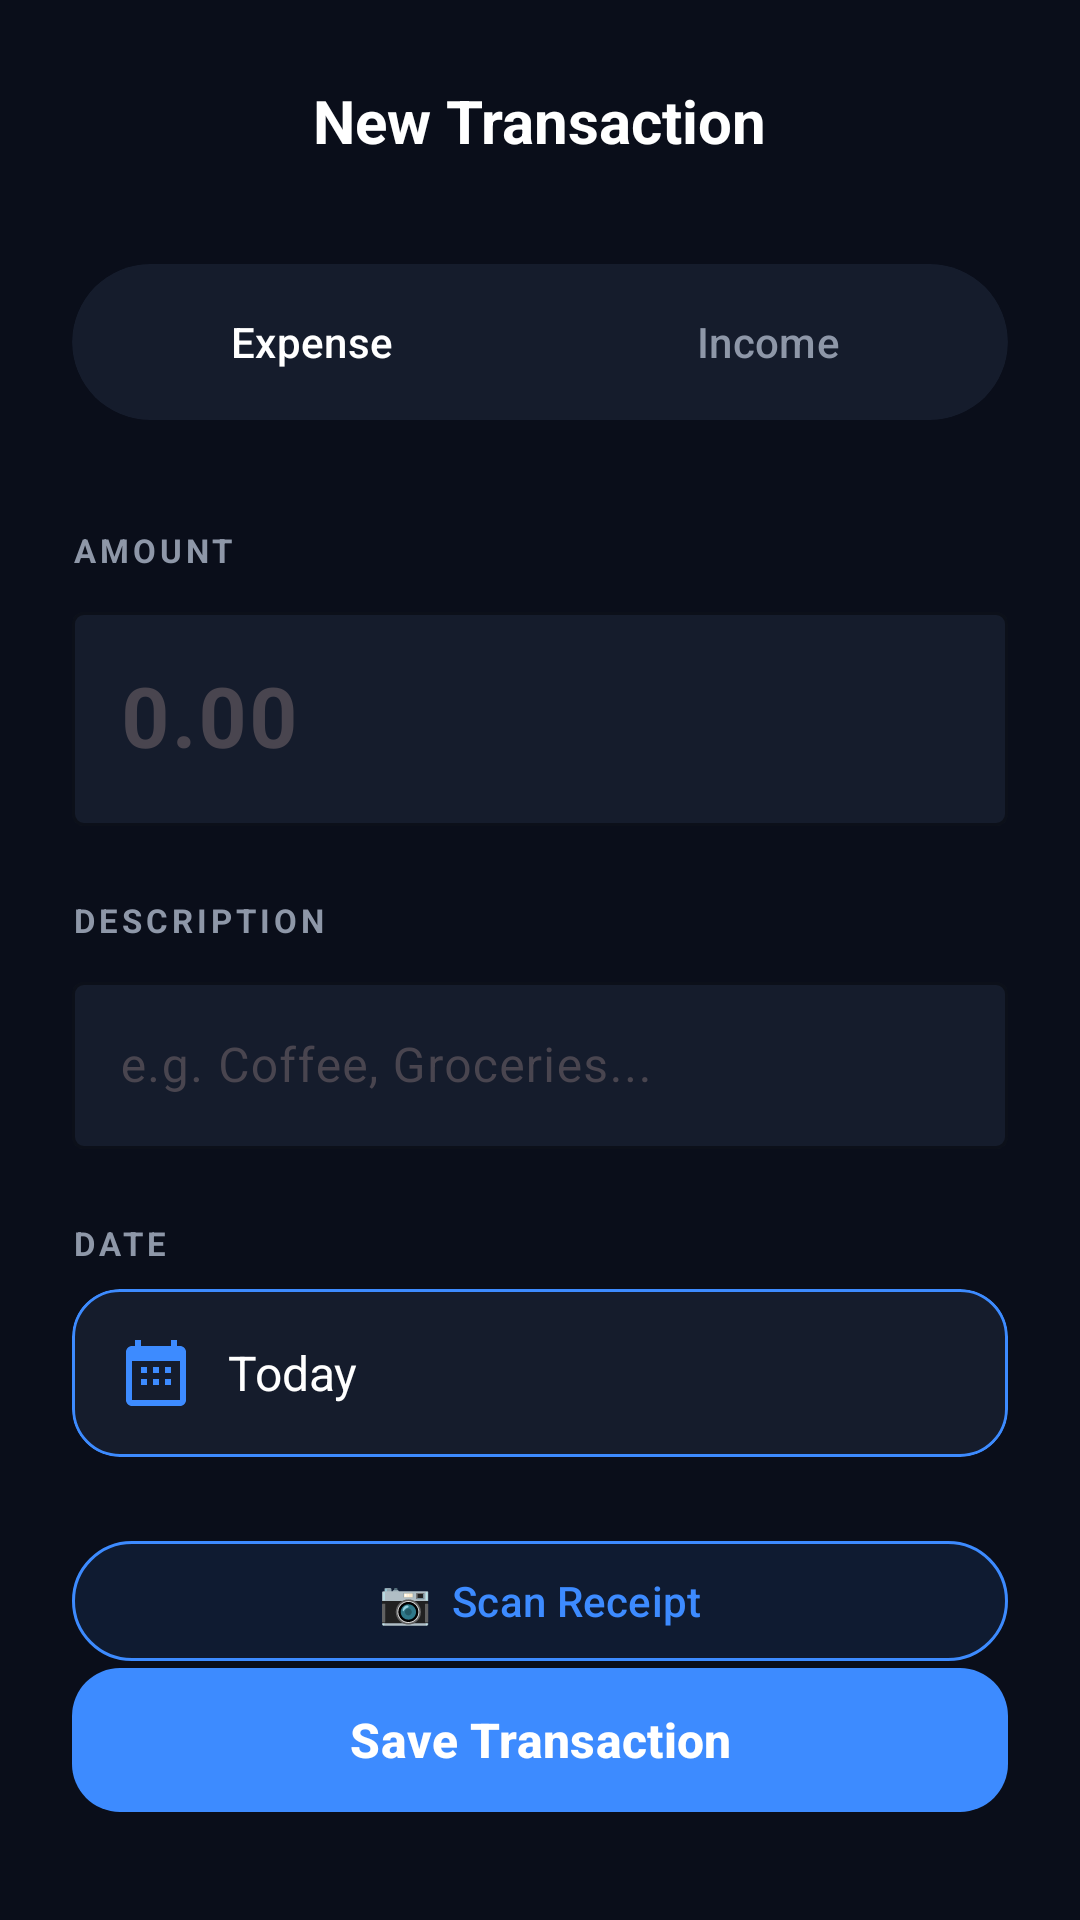

Locate icon controls on the screen. Image size 1080px x 1920px, boxes as bbox=(x1, y1, x2, y2).
calendar: bbox=(126, 1340, 186, 1406)
